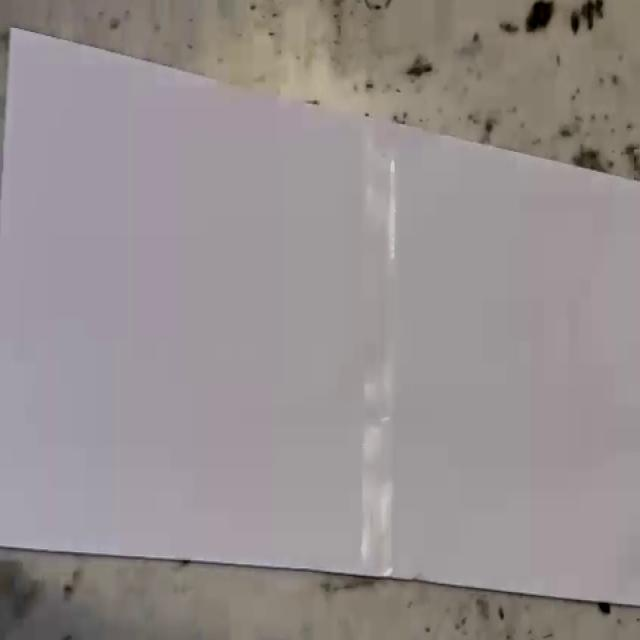road: (0, 28, 640, 607)
